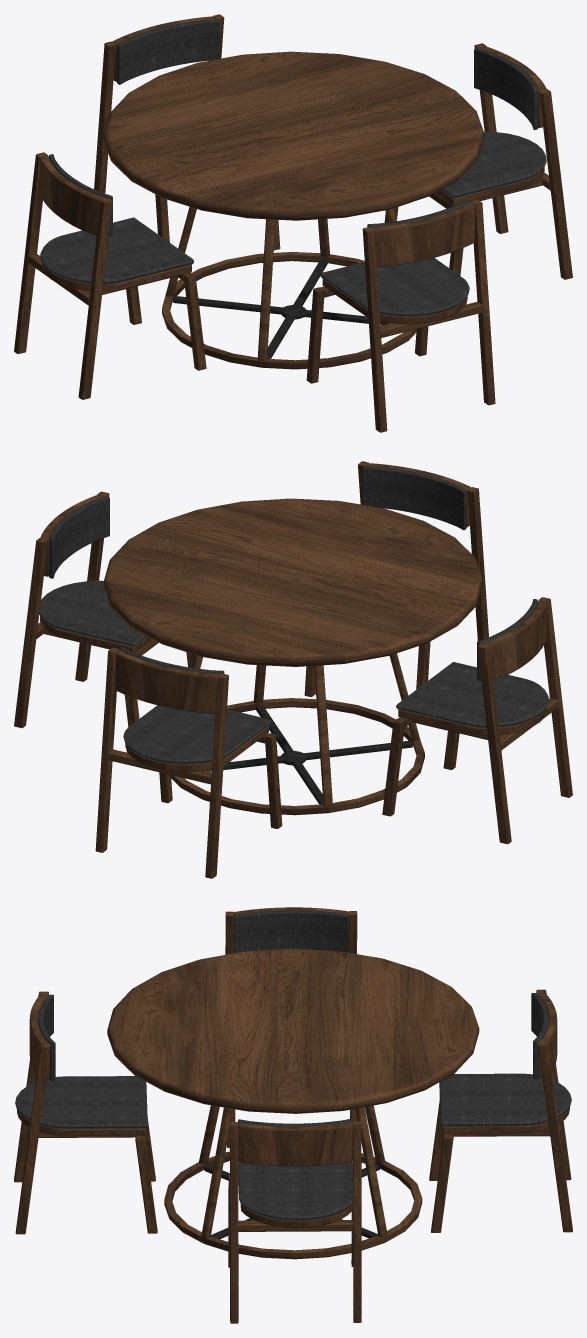
File: dining_set_4.glb
3 views of the same model, one above another, from view 1: azimuth 30°, elevation 25°; view 2: azimuth 150°, elevation 25°; view 3: azimuth 270°, elevation 25° (orthographic). The views are drawn at different scales.
Visible parts, largest first — view 1: Mesh8_cgsmap_wood_oak_003_0, Mesh11_TELA_NEGRA_0, Mesh22_TELA_NEGRA_0, Mesh13_cgsmap_wood_oak_003_0, Mesh24_cgsmap_wood_oak_003_0, Mesh42_TELA_NEGRA_0, Mesh21_cgsmap_wood_oak_003_0, Mesh1_cgsmap_wood_oak_003_0, Mesh33_TELA_NEGRA_0, Mesh35_cgsmap_wood_oak_003_0, Mesh31_TELA_NEGRA_0, Mesh10_cgsmap_wood_oak_003_0 (+12 smaller); view 2: Mesh8_cgsmap_wood_oak_003_0, Mesh11_TELA_NEGRA_0, Mesh44_TELA_NEGRA_0, Mesh13_cgsmap_wood_oak_003_0, Mesh46_cgsmap_wood_oak_003_0, Mesh20_TELA_NEGRA_0, Mesh43_cgsmap_wood_oak_003_0, Mesh1_cgsmap_wood_oak_003_0, Mesh33_TELA_NEGRA_0, Mesh35_cgsmap_wood_oak_003_0, Mesh31_TELA_NEGRA_0, Mesh10_cgsmap_wood_oak_003_0 (+12 smaller); view 3: Mesh8_cgsmap_wood_oak_003_0, Mesh44_TELA_NEGRA_0, Mesh22_TELA_NEGRA_0, Mesh33_TELA_NEGRA_0, Mesh32_cgsmap_wood_oak_003_0, Mesh9_TELA_NEGRA_0, Mesh1_cgsmap_wood_oak_003_0, Mesh35_cgsmap_wood_oak_003_0, Mesh24_cgsmap_wood_oak_003_0, Mesh46_cgsmap_wood_oak_003_0, Mesh4_cgsmap_wood_oak_003_0, Mesh7_cgsmap_wood_oak_003_0 (+14 smaller).
Boxes of the visible parts, bbox=[...] form: Mesh8_cgsmap_wood_oak_003_0: bbox=[103, 51, 484, 220]; Mesh11_TELA_NEGRA_0: bbox=[40, 217, 193, 284]; Mesh22_TELA_NEGRA_0: bbox=[320, 258, 469, 316]; Mesh13_cgsmap_wood_oak_003_0: bbox=[14, 152, 112, 399]; Mesh24_cgsmap_wood_oak_003_0: bbox=[362, 199, 495, 432]; Mesh42_TELA_NEGRA_0: bbox=[117, 19, 219, 84]; Mesh21_cgsmap_wood_oak_003_0: bbox=[371, 202, 474, 267]; Mesh1_cgsmap_wood_oak_003_0: bbox=[162, 252, 416, 369]; Mesh33_TELA_NEGRA_0: bbox=[441, 131, 546, 198]; Mesh35_cgsmap_wood_oak_003_0: bbox=[474, 43, 572, 279]; Mesh31_TELA_NEGRA_0: bbox=[474, 48, 538, 129]; Mesh10_cgsmap_wood_oak_003_0: bbox=[40, 156, 106, 235]; Mesh8_cgsmap_wood_oak_003_0: bbox=[103, 498, 482, 666]; Mesh11_TELA_NEGRA_0: bbox=[396, 662, 548, 727]; Mesh44_TELA_NEGRA_0: bbox=[123, 705, 271, 764]; Mesh13_cgsmap_wood_oak_003_0: bbox=[477, 597, 572, 844]; Mesh46_cgsmap_wood_oak_003_0: bbox=[95, 647, 228, 878]; Mesh20_TELA_NEGRA_0: bbox=[362, 466, 466, 530]; Mesh43_cgsmap_wood_oak_003_0: bbox=[115, 650, 220, 714]; Mesh1_cgsmap_wood_oak_003_0: bbox=[171, 698, 424, 815]; Mesh33_TELA_NEGRA_0: bbox=[39, 580, 147, 646]; Mesh35_cgsmap_wood_oak_003_0: bbox=[14, 491, 109, 728]; Mesh31_TELA_NEGRA_0: bbox=[49, 496, 109, 578]; Mesh10_cgsmap_wood_oak_003_0: bbox=[482, 600, 546, 680]; Mesh8_cgsmap_wood_oak_003_0: bbox=[107, 948, 479, 1113]; Mesh44_TELA_NEGRA_0: bbox=[439, 1073, 571, 1126]; Mesh22_TELA_NEGRA_0: bbox=[15, 1076, 147, 1128]; Mesh33_TELA_NEGRA_0: bbox=[238, 1162, 352, 1220]; Mesh32_cgsmap_wood_oak_003_0: bbox=[238, 1121, 352, 1166]; Mesh9_TELA_NEGRA_0: bbox=[234, 910, 348, 953]; Mesh1_cgsmap_wood_oak_003_0: bbox=[164, 1151, 422, 1259]; Mesh35_cgsmap_wood_oak_003_0: bbox=[229, 1121, 361, 1323]; Mesh24_cgsmap_wood_oak_003_0: bbox=[14, 991, 50, 1234]; Mesh46_cgsmap_wood_oak_003_0: bbox=[536, 989, 572, 1232]; Mesh4_cgsmap_wood_oak_003_0: bbox=[201, 1107, 232, 1238]; Mesh7_cgsmap_wood_oak_003_0: bbox=[355, 1107, 387, 1237].
Bounding box in the file's own units: 2 × 0.7415 × 2.
Materials: 3 (3 with a texture image).
